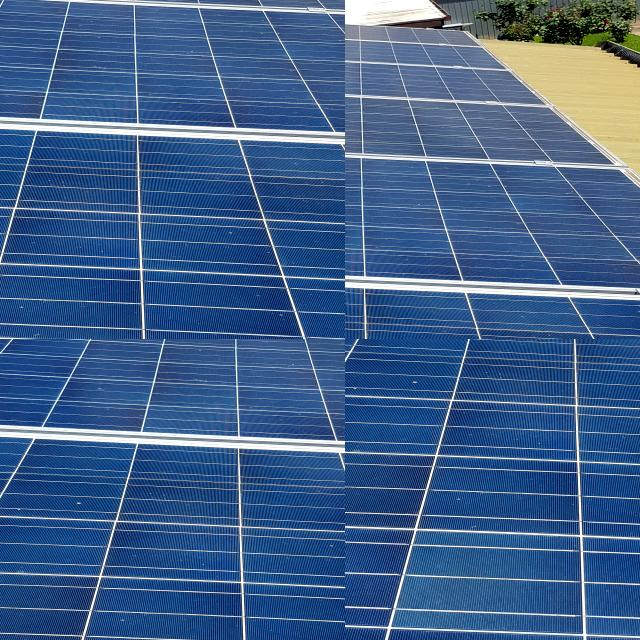bird: (345, 29, 353, 38), (345, 39, 353, 47), (345, 12, 353, 18), (10, 339, 22, 343), (345, 33, 349, 44), (345, 20, 353, 25), (345, 7, 351, 13), (345, 27, 349, 36), (59, 339, 68, 343), (345, 30, 352, 35), (345, 12, 351, 17), (345, 21, 351, 26), (345, 19, 350, 25), (345, 43, 349, 49), (345, 15, 351, 18), (0, 339, 6, 342), (345, 2, 349, 6), (345, 10, 349, 14), (345, 27, 348, 32), (345, 4, 348, 8), (0, 339, 3, 343), (0, 339, 6, 341), (4, 339, 11, 340), (0, 339, 6, 340), (0, 339, 3, 341)
panel: (0, 0, 53, 21), (0, 0, 25, 13), (0, 0, 33, 7), (0, 0, 36, 5), (0, 0, 19, 3)
